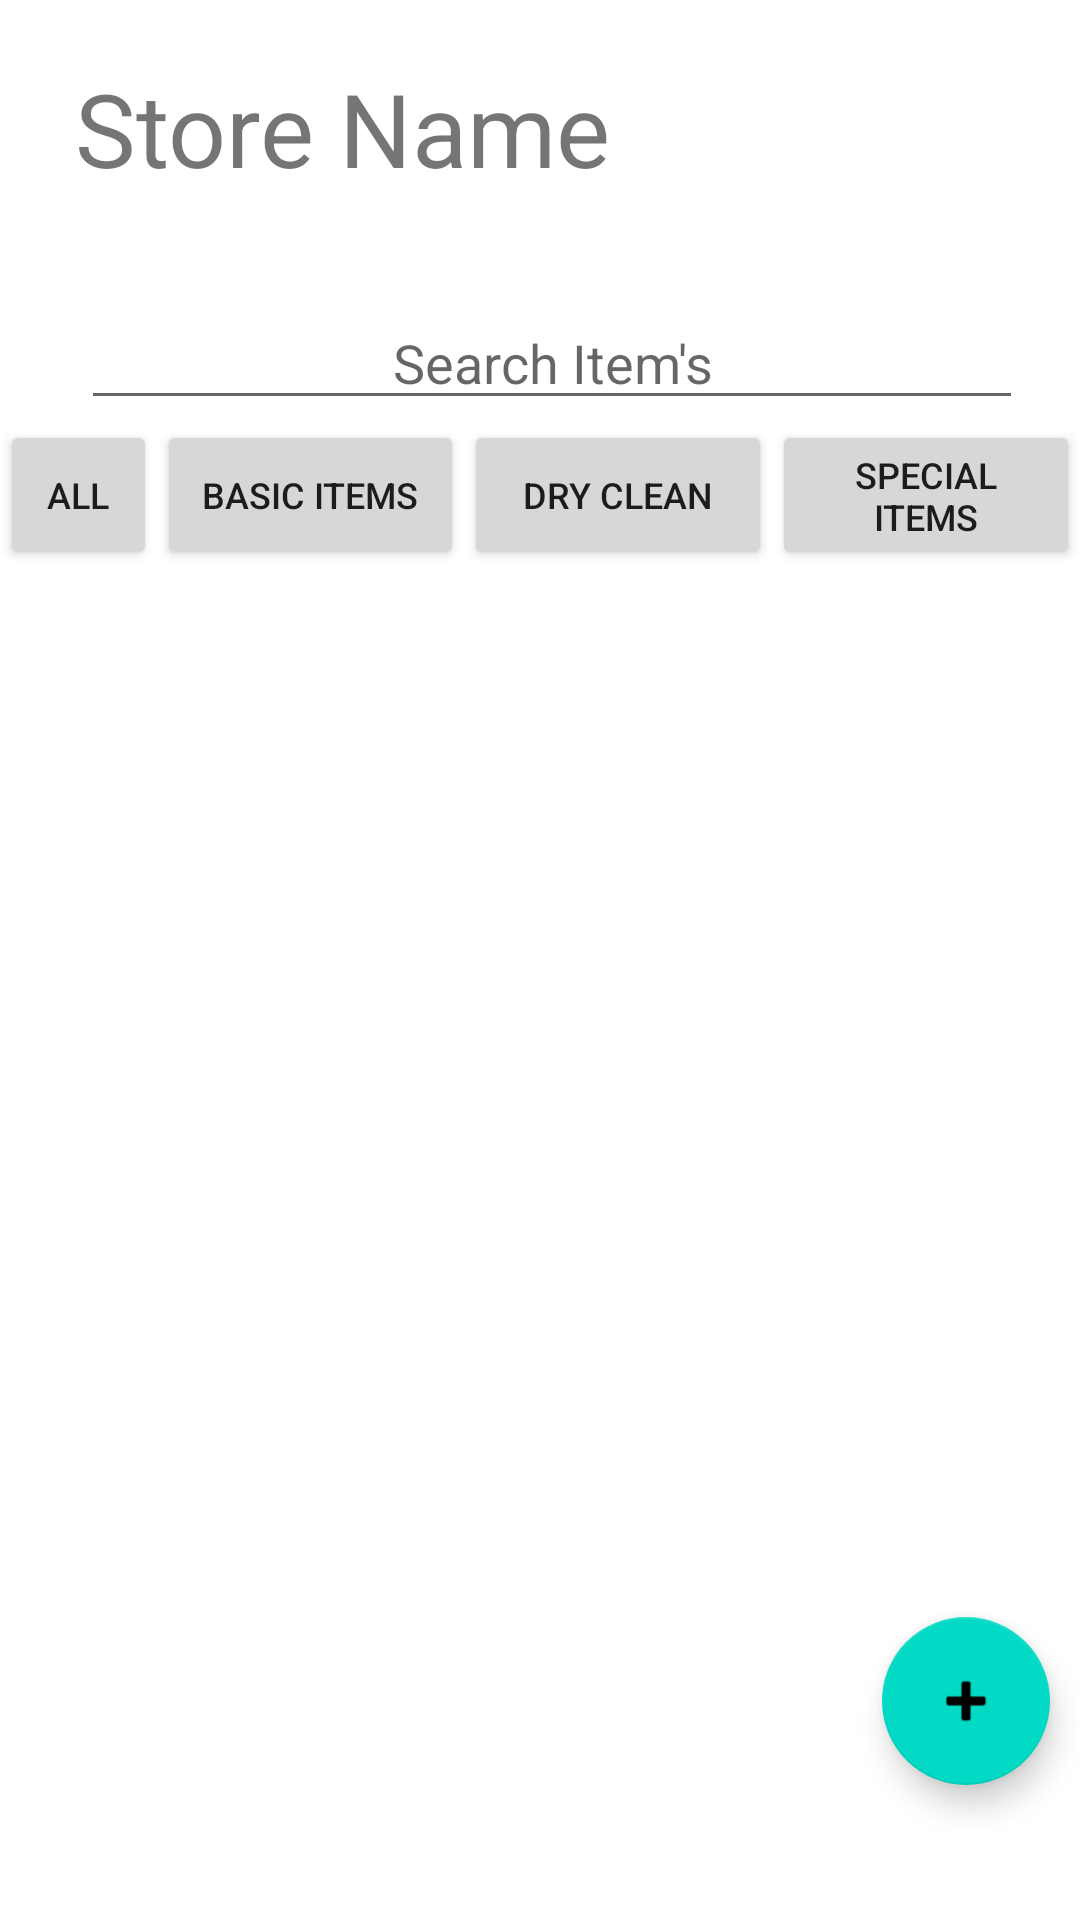

Point at icon controls on the screen. Image size 1080x1920, points as (x,y).
add: (966,1701)
